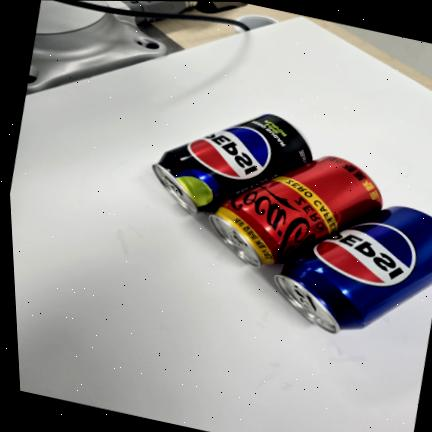can_coke_decaf: (204, 157, 383, 269)
can_pepsi: (274, 207, 432, 333)
can_pepsi_zero: (151, 111, 311, 216)
